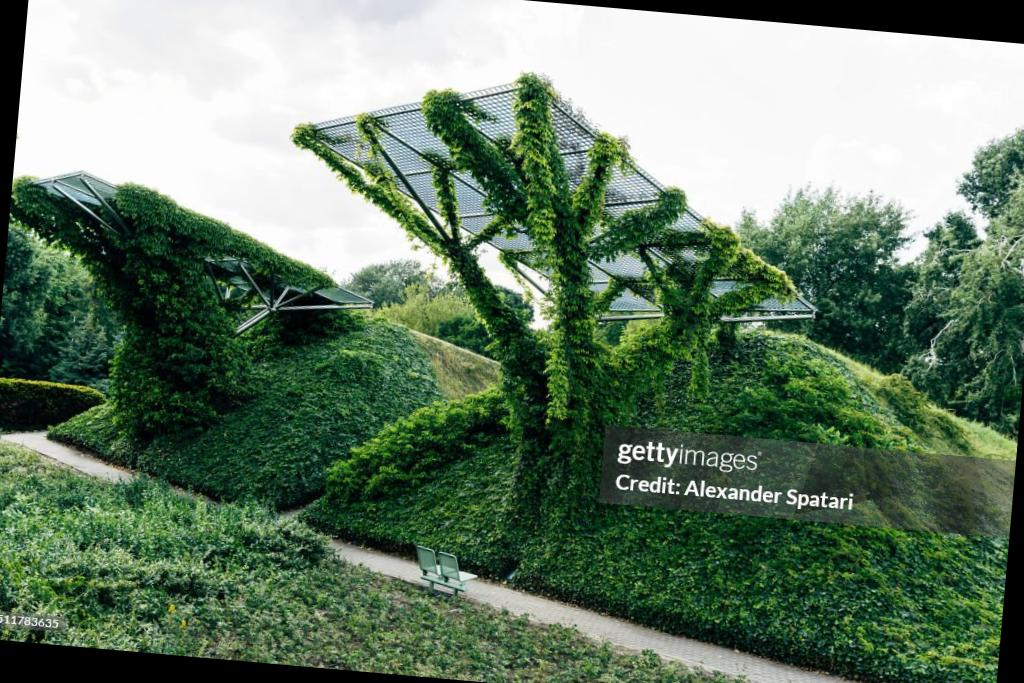overgrown grass: (0, 441, 765, 683), (416, 85, 779, 536), (316, 118, 548, 556), (30, 185, 334, 444), (339, 392, 506, 492), (767, 357, 878, 499)
